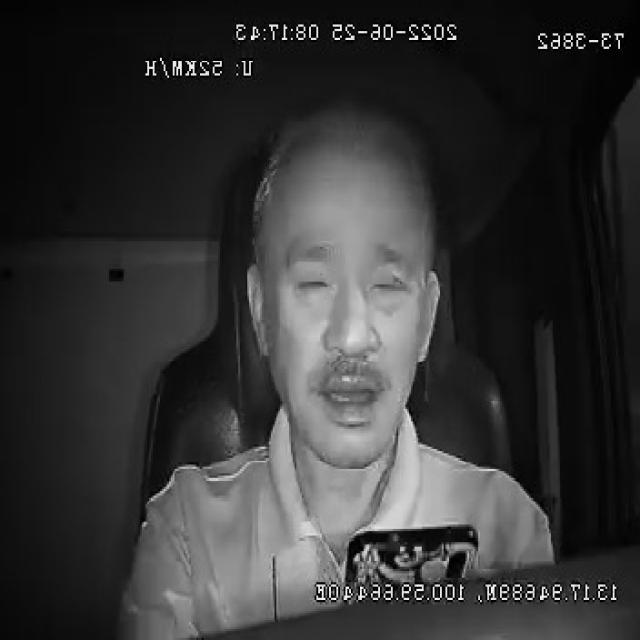phone: (341, 518, 480, 584)
